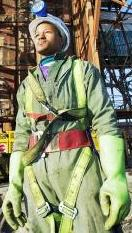gloves: (98, 132, 131, 231), (0, 150, 26, 231)
hard-hat: (28, 0, 70, 53)
ppe-suit: (3, 54, 131, 233)
